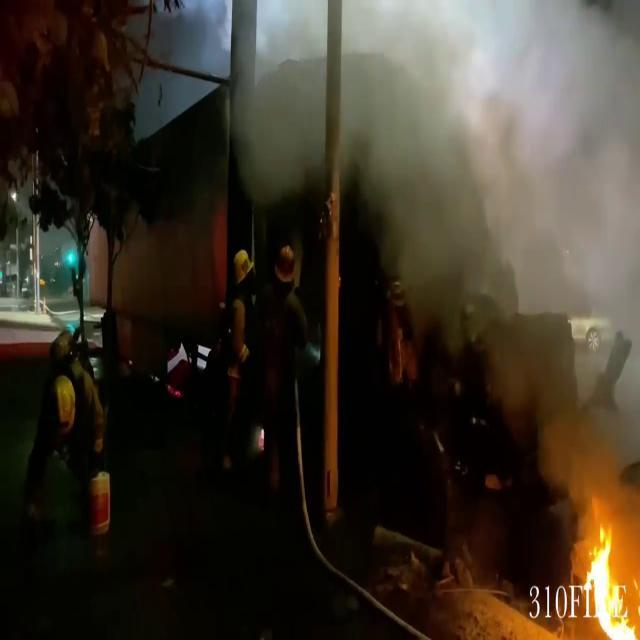Fire: (578, 522, 640, 638)
Smoke: (361, 2, 640, 528)
